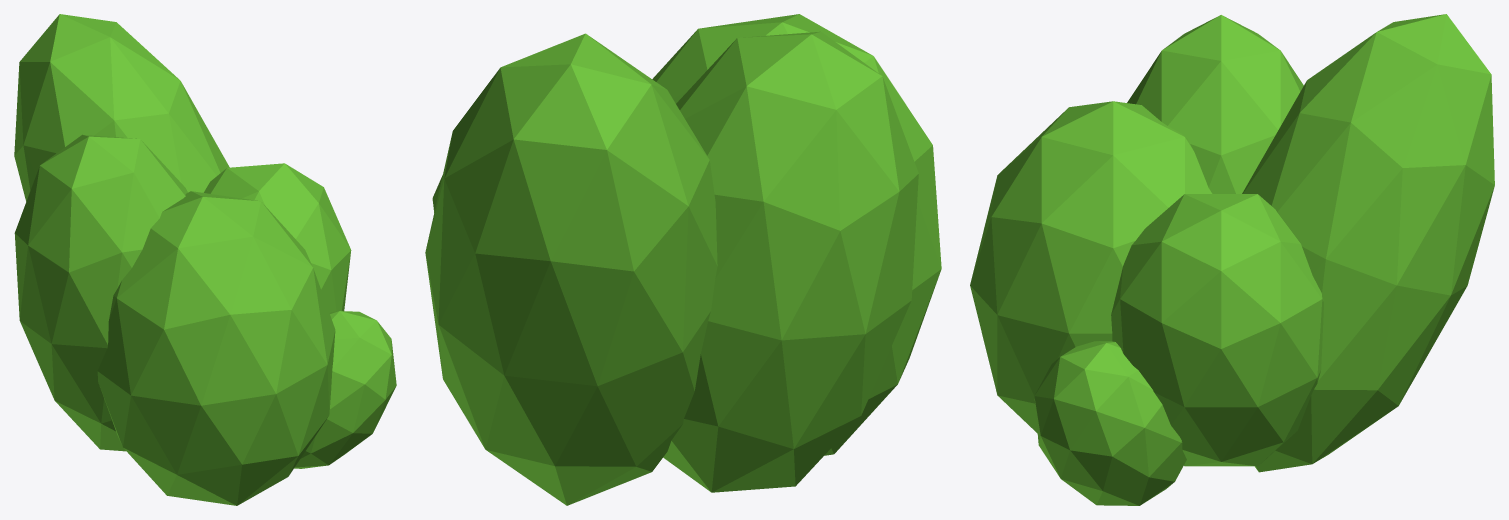
Rendered from Busch_5.fbx.
3 views of the same model, side by side, from view 1: azimuth 30°, elevation 25°; view 2: azimuth 150°, elevation 25°; view 3: azimuth 270°, elevation 25° (orthographic). The views are drawn at different scales.
Parts seen in each view (by area): view 1: Icosphere.006; view 2: Icosphere.006; view 3: Icosphere.006.
Boxes of the visible parts, bbox=[...] form: Icosphere.006: bbox=[14, 14, 396, 505]; Icosphere.006: bbox=[425, 14, 941, 505]; Icosphere.006: bbox=[970, 14, 1494, 505].
Size of the model in its own units: 224 by 265 by 284.
